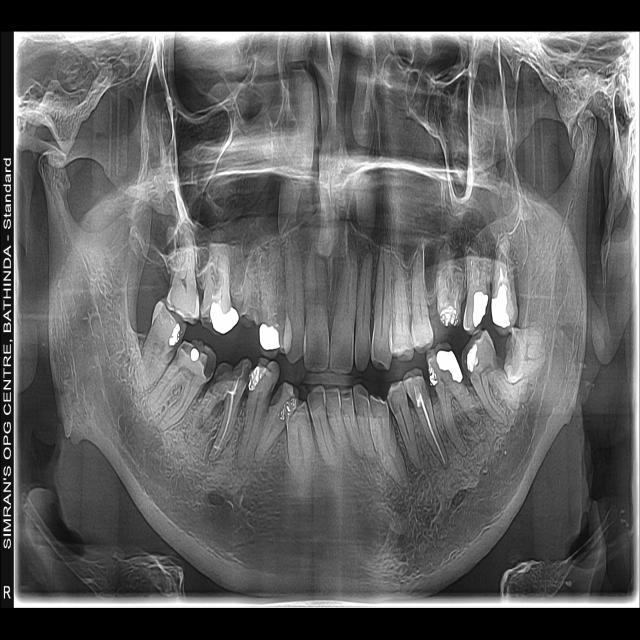Filling: (210, 302, 239, 333), (491, 283, 510, 328), (436, 350, 462, 382), (472, 291, 489, 327), (259, 323, 280, 350), (466, 344, 479, 373)
